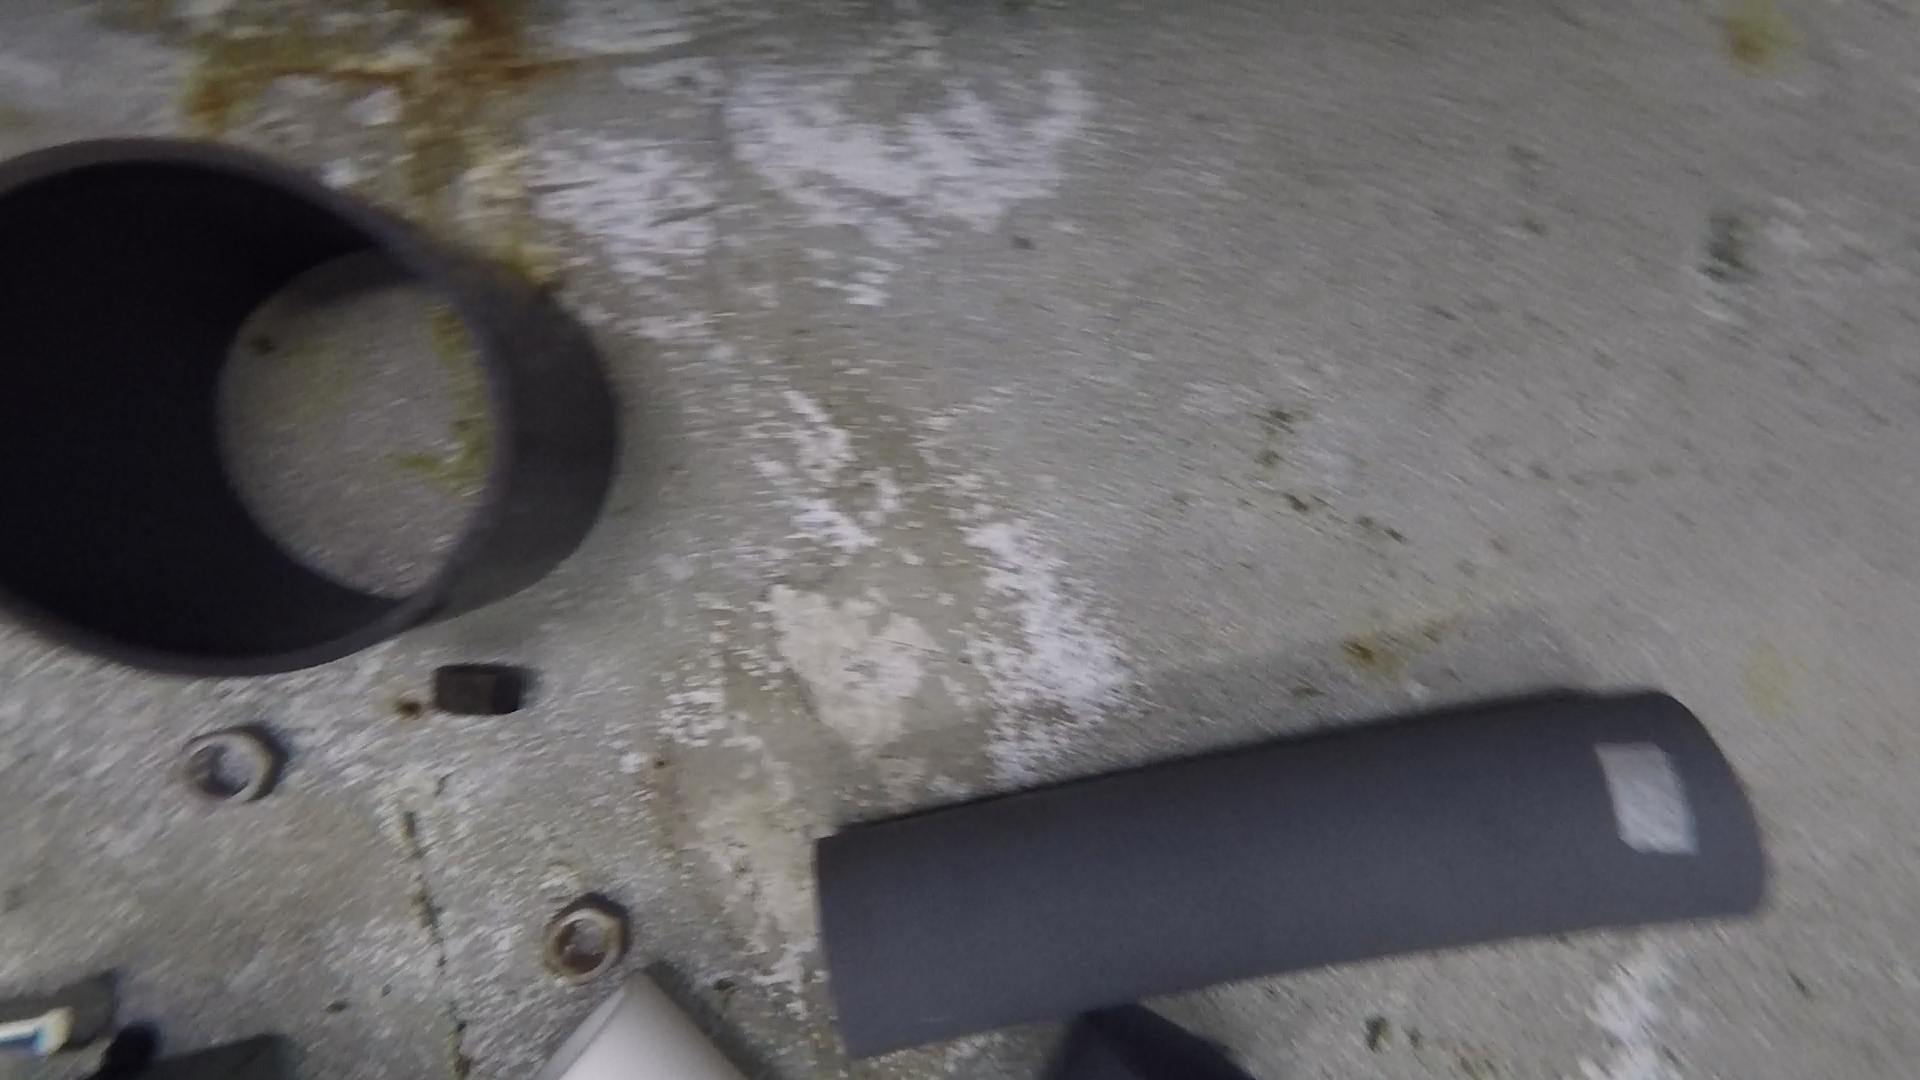bolt: (1, 975, 117, 1058)
nut: (174, 724, 287, 812), (543, 891, 628, 990), (433, 663, 525, 716)
pipe: (810, 694, 1764, 1060), (1, 137, 615, 686), (531, 969, 746, 1080)
